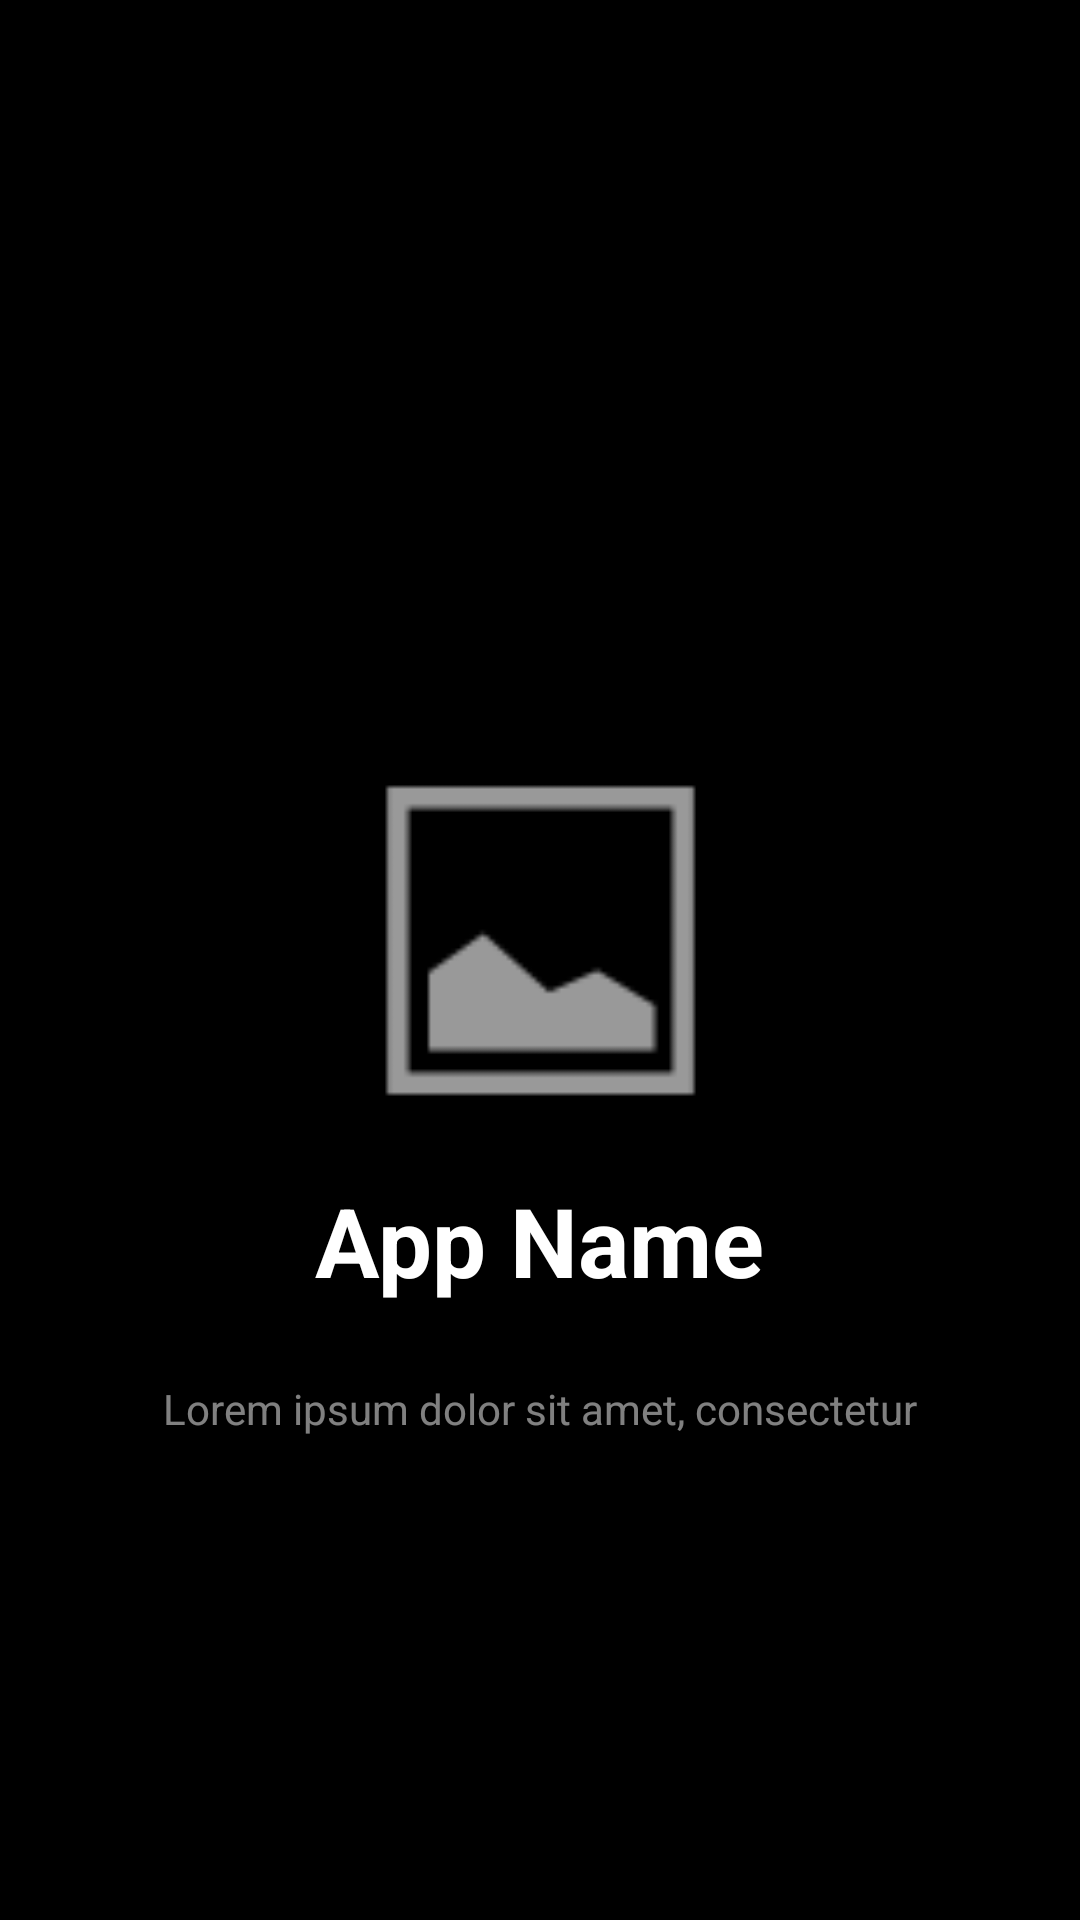

Point at icon controls on the screen. Image size 1080×1920, points as point (x, y).
gallery: point (540, 940)
